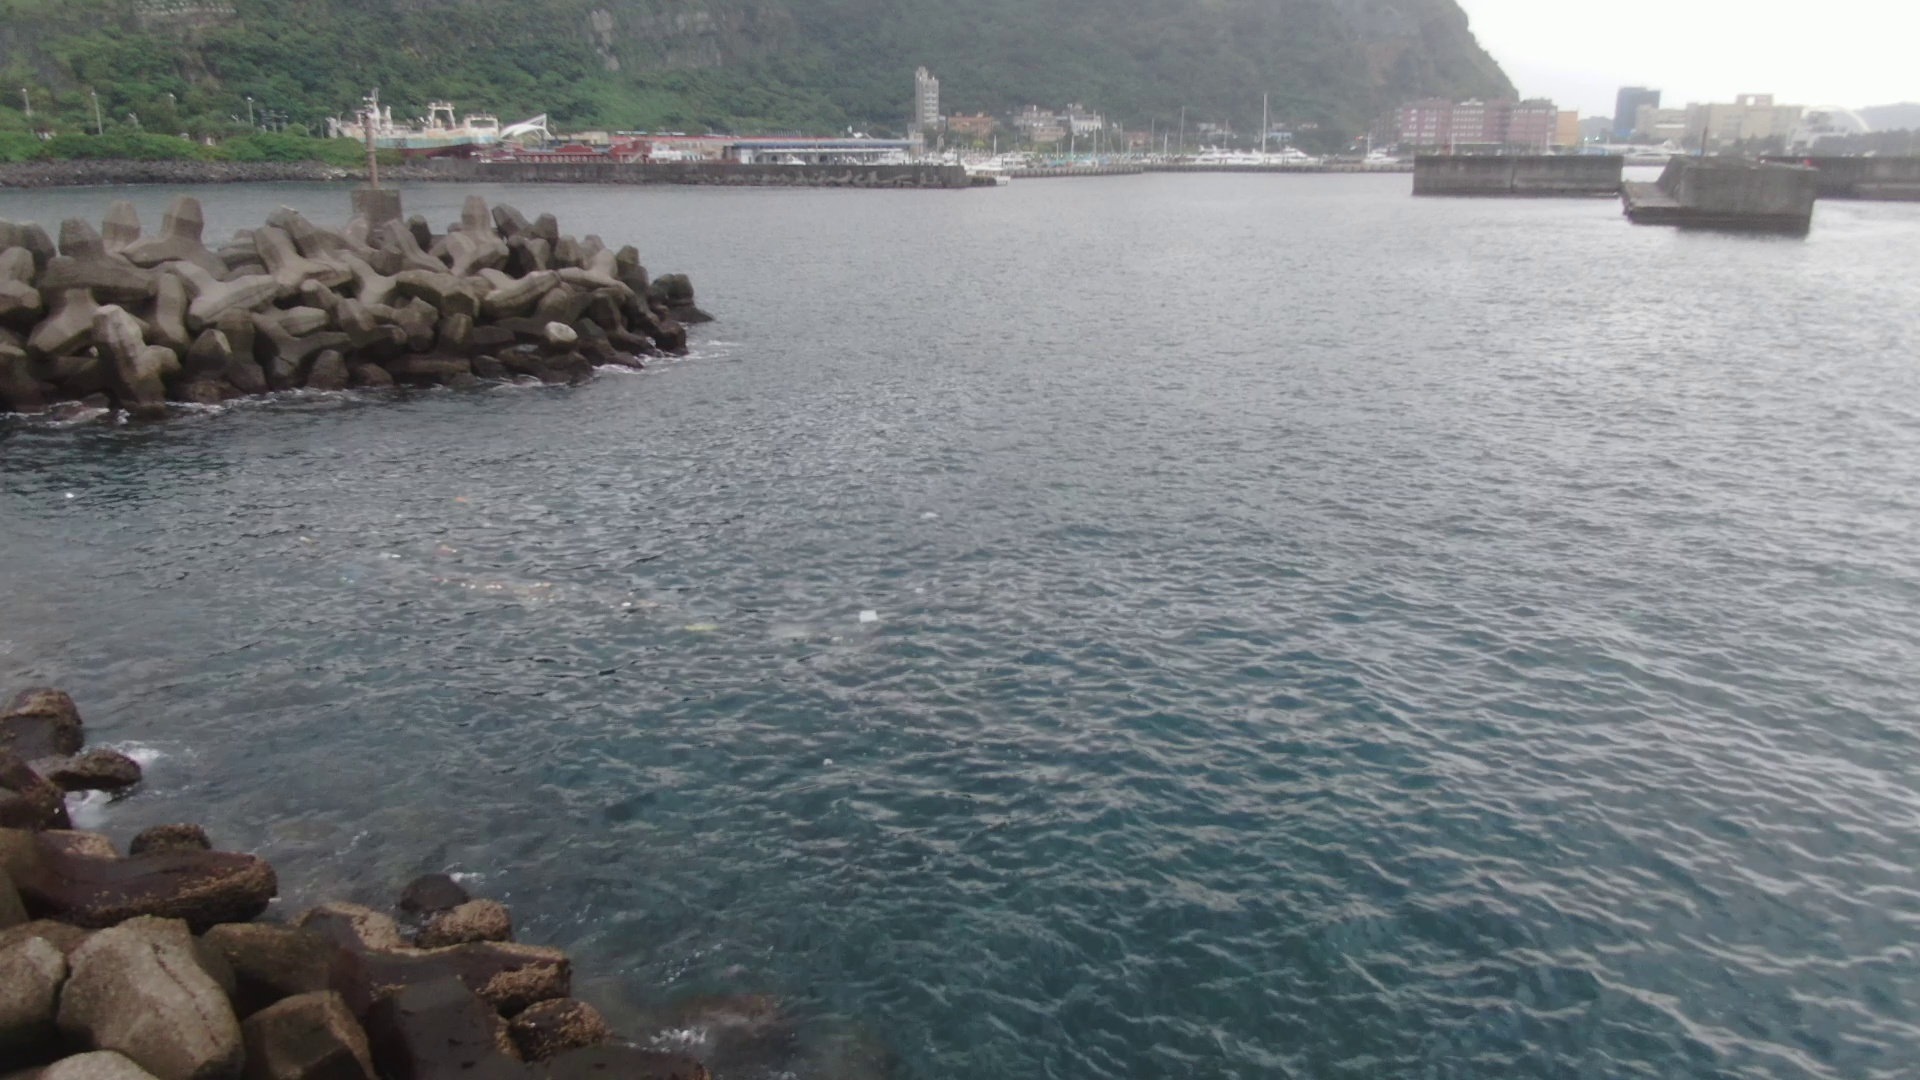garbage: (848, 603, 889, 636)
